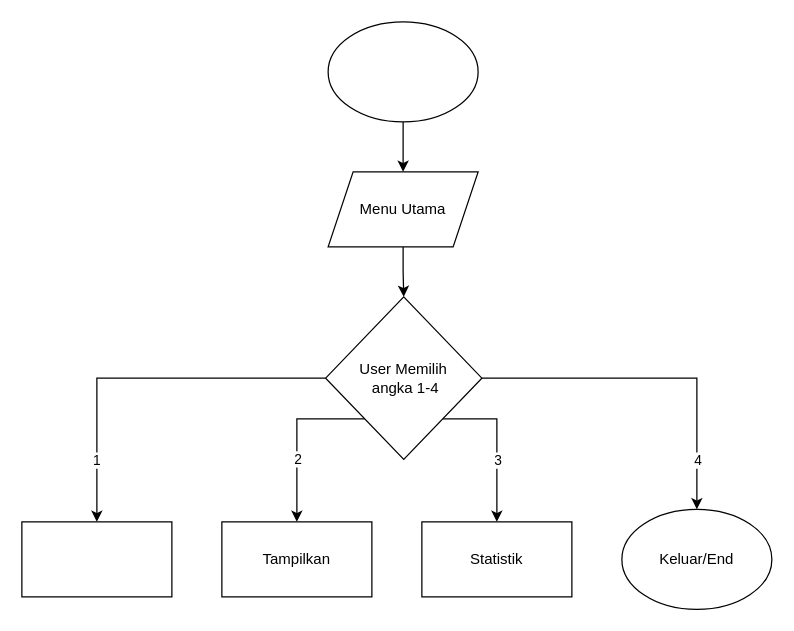
This 794x631 diagram has some shape labels left out. Each missing label, with the centre of its shape:
"Mulai" belongs at (x=402, y=71).
"Tambah" belongs at (x=96, y=559).
